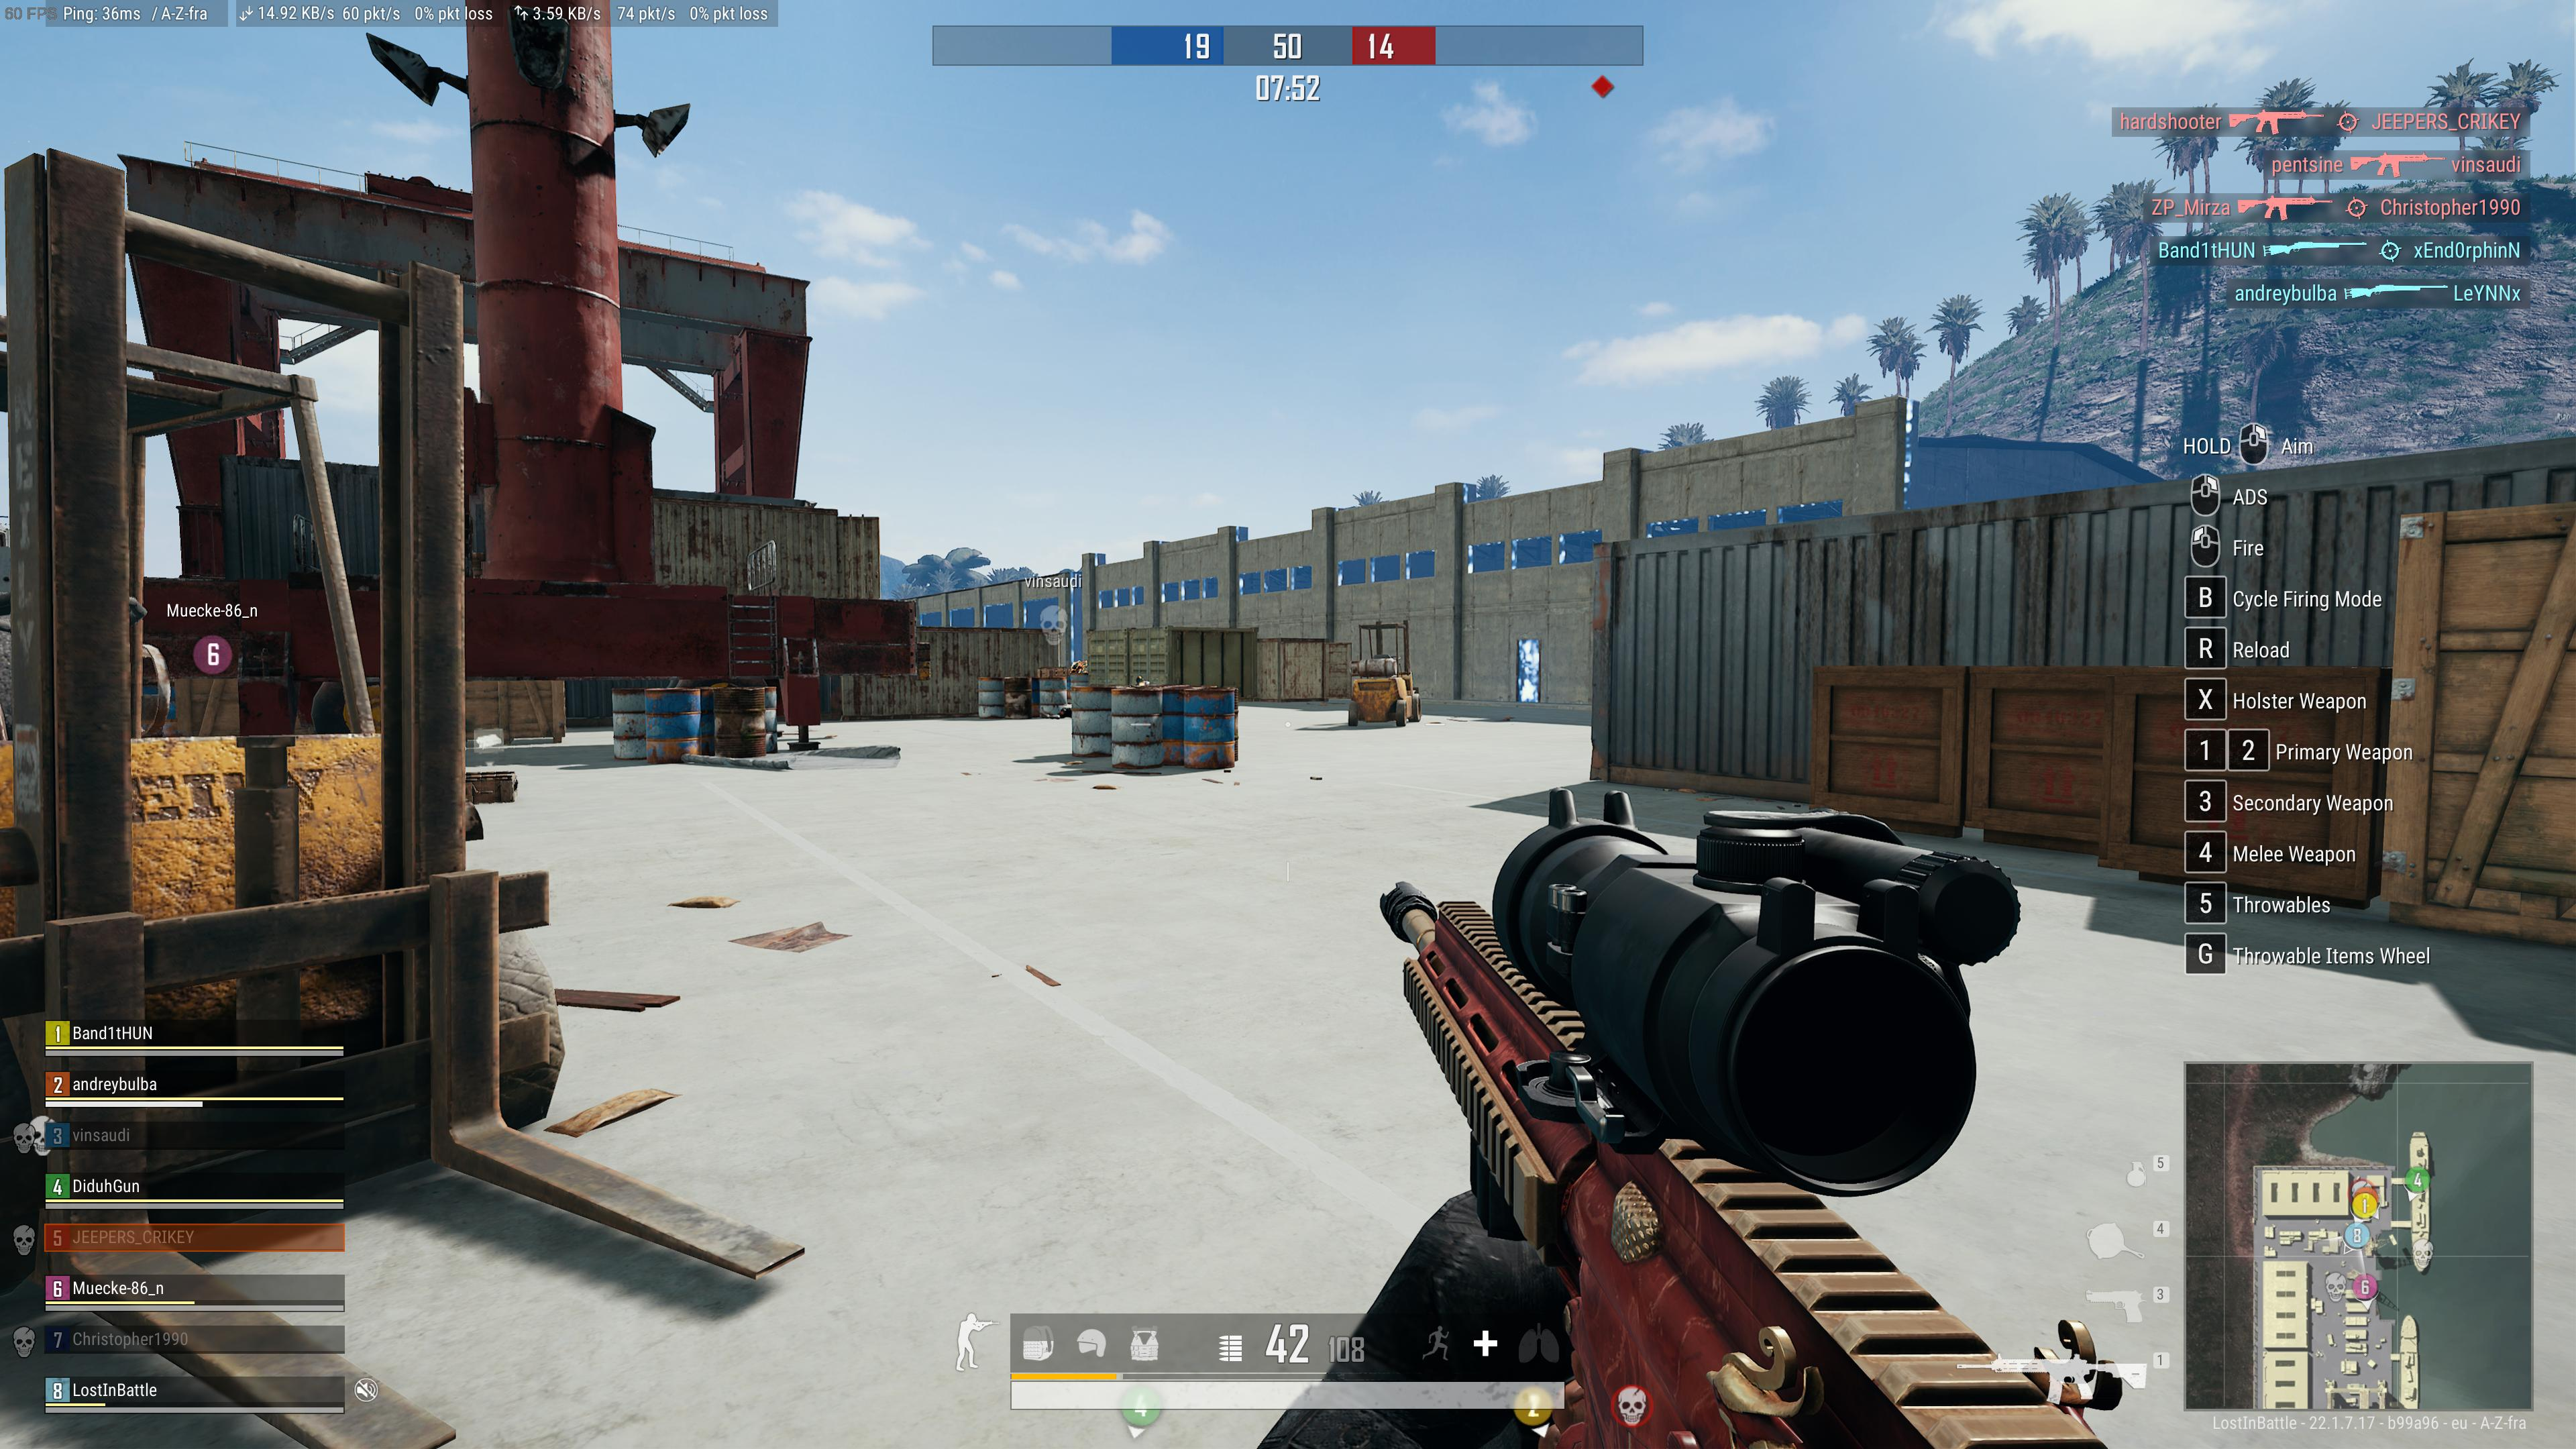enemy: (1069, 658, 1088, 672)
enemy_head: (1134, 674, 1146, 685)
